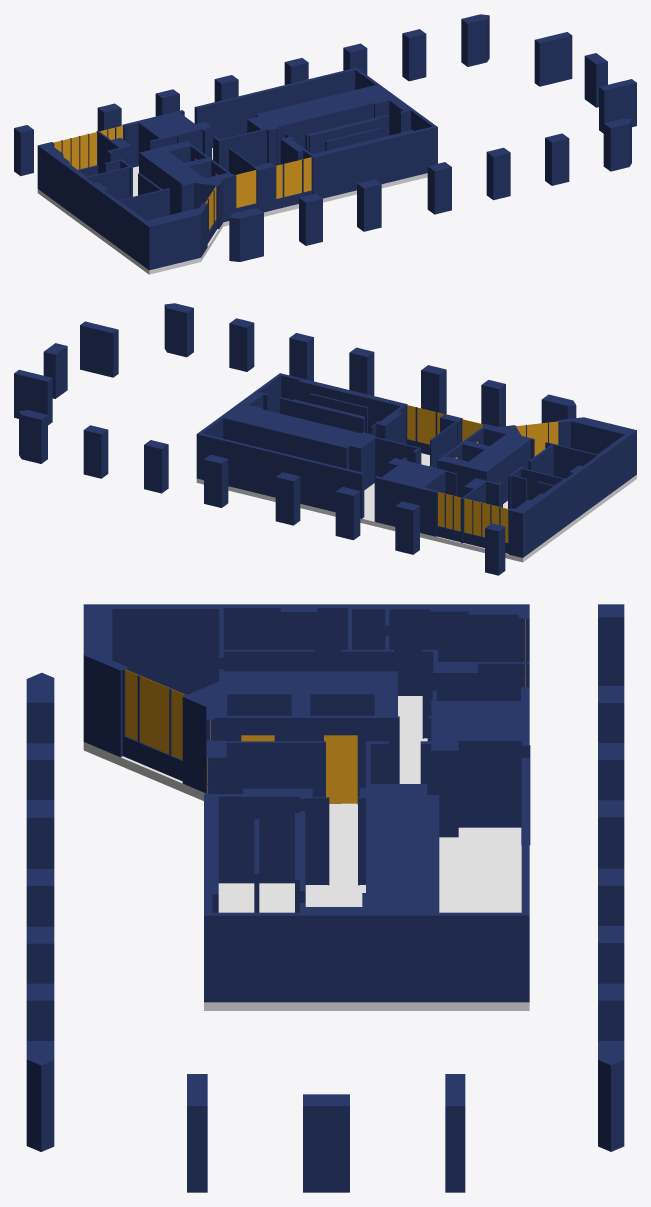
The model's file is 26W Mezzanine.fbx.
The picture shows the model from 3 angles, top to bottom: view 1: azimuth 30°, elevation 25°; view 2: azimuth 150°, elevation 25°; view 3: azimuth 270°, elevation 25°; orthographic projection. The views are drawn at different scales.
Parts seen in each view (by area): view 1: Walls, Interior Member, Object_48; view 2: Walls, Interior Member, Object_48; view 3: Walls, Object_48, Interior Member.
Boxes of the visible parts, <box> form: Walls: <box>14,14,636,270</box>; Interior Member: <box>53,125,311,229</box>; Object_48: <box>37,148,427,274</box>; Walls: <box>14,303,636,575</box>; Interior Member: <box>407,405,558,542</box>; Object_48: <box>196,453,636,562</box>; Walls: <box>26,604,624,1192</box>; Object_48: <box>83,696,529,1010</box>; Interior Member: <box>125,619,525,803</box>.
Bounding box in the file's own units: 1489 × 750 × 132.
